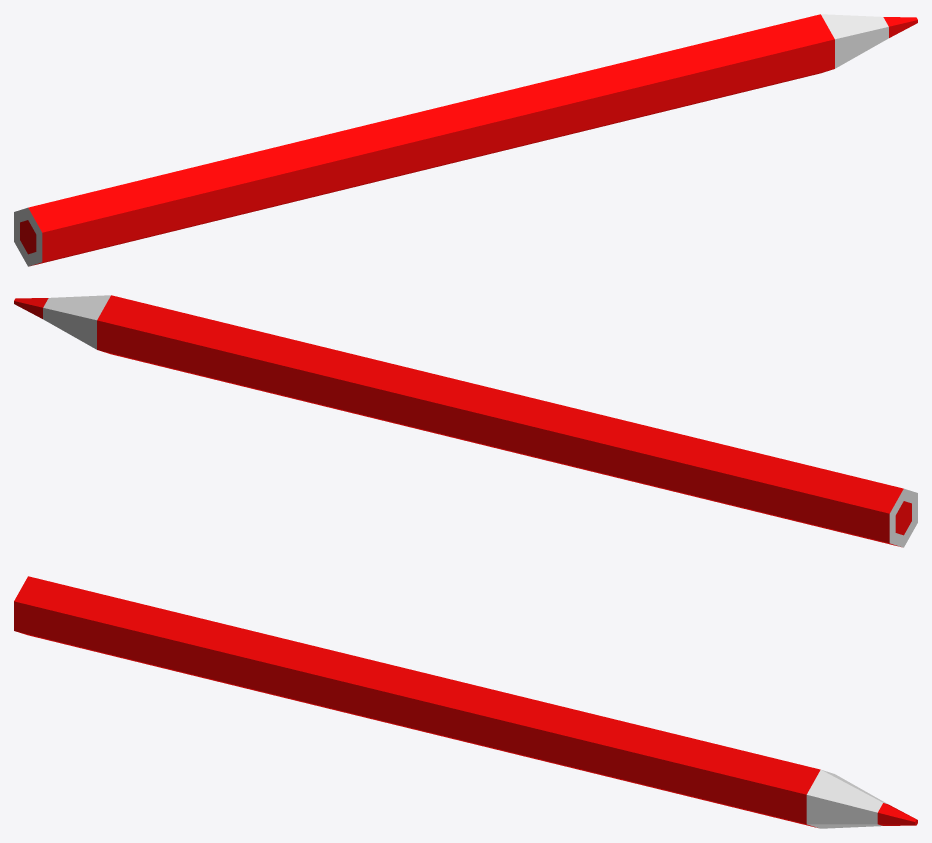
File: Pencil_Colored_01_Sliced.fbx
3 views of the same model, one above another, from view 1: azimuth 30°, elevation 25°; view 2: azimuth 150°, elevation 25°; view 3: azimuth 330°, elevation 25° (orthographic).
Visible parts, largest first — view 1: Pencil_Colored_01_1, Pencil_Colored_01; view 2: Pencil_Colored_01_1, Pencil_Colored_01; view 3: Pencil_Colored_01_1, Pencil_Colored_01.
Part boxes in pixels (x1,y1,x2,y2): Pencil_Colored_01_1: (14, 101, 478, 266); Pencil_Colored_01: (465, 14, 917, 159); Pencil_Colored_01_1: (453, 382, 917, 547); Pencil_Colored_01: (14, 295, 466, 440); Pencil_Colored_01_1: (14, 576, 464, 740); Pencil_Colored_01: (451, 683, 917, 828).
Bounding box in the file's own units: 18.27 × 1.16 × 1.01.
